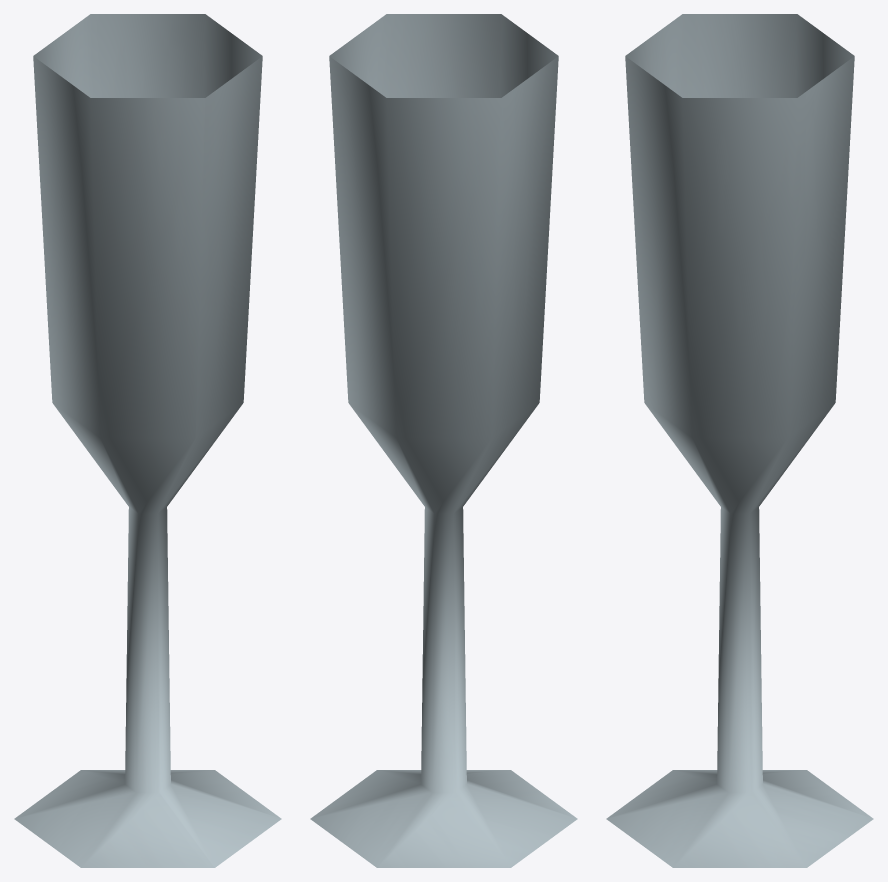
Rendered from Glass_Flute_1_LOD1.gltf.
3 views of the same model, side by side, from view 1: azimuth 30°, elevation 25°; view 2: azimuth 150°, elevation 25°; view 3: azimuth 270°, elevation 25° (orthographic).
Visible parts, largest first — view 1: Glass_Flute_1_LOD1; view 2: Glass_Flute_1_LOD1; view 3: Glass_Flute_1_LOD1.
Boxes of the visible parts, left/top/right/bottom form: Glass_Flute_1_LOD1: left=14, top=14, right=281, bottom=867; Glass_Flute_1_LOD1: left=310, top=14, right=577, bottom=867; Glass_Flute_1_LOD1: left=606, top=14, right=873, bottom=867.
Size of the model in its own units: 0.0606 by 0.22 by 0.07.
Materials: 1 (1 with a texture image).
